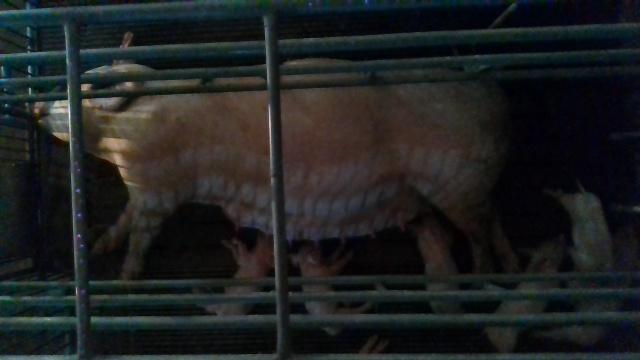piglet: (483, 234, 564, 354), (291, 240, 375, 333), (192, 235, 275, 316), (546, 182, 615, 273), (416, 206, 463, 314)
sow-sleep-lactate: (29, 30, 517, 286)
